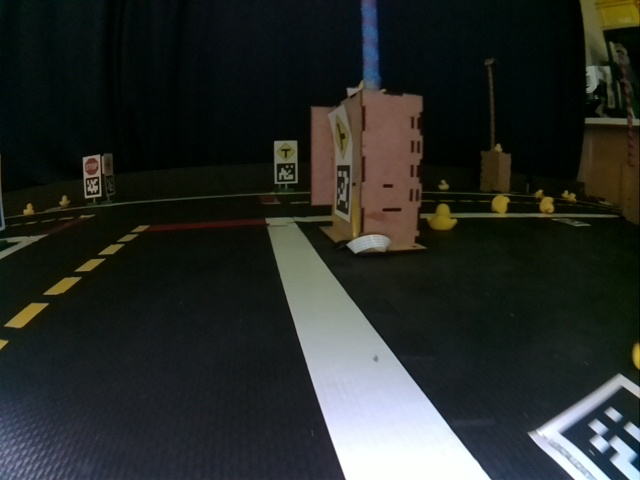Duckie: (428, 204, 456, 230), (492, 194, 509, 212), (539, 196, 554, 213), (439, 180, 449, 190), (59, 196, 68, 206), (23, 204, 32, 214), (569, 193, 577, 203), (496, 144, 504, 151)
Intersection sign: (328, 113, 352, 162), (275, 141, 296, 159), (104, 156, 114, 172)
QR code: (529, 374, 639, 480), (335, 166, 350, 214), (275, 164, 297, 182), (85, 178, 100, 194), (106, 176, 116, 195)
Stop sign: (84, 157, 99, 176)
